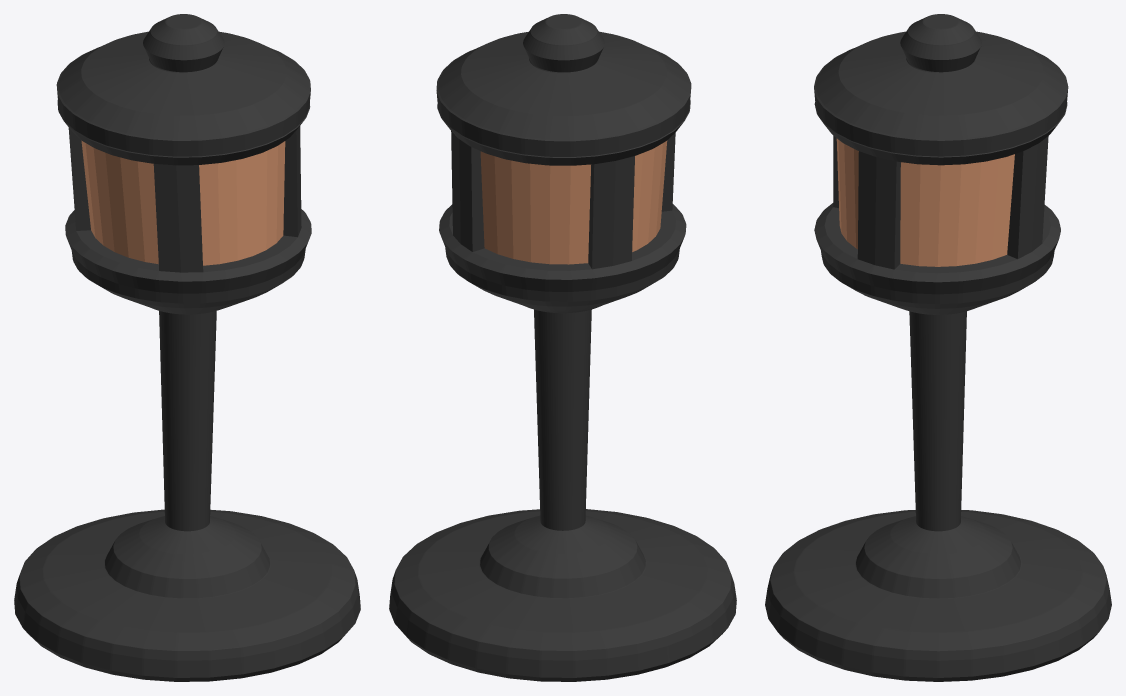
Rendered from lamp_2_garden.fbx.
The picture shows the model from 3 angles, left to right: view 1: azimuth 30°, elevation 25°; view 2: azimuth 150°, elevation 25°; view 3: azimuth 270°, elevation 25°; orthographic projection.
Parts seen in each view (by area): view 1: lamp_2_garden; view 2: lamp_2_garden; view 3: lamp_2_garden.
Part boxes in pixels (x1,y1,x2,y2): lamp_2_garden: (14, 14, 360, 681); lamp_2_garden: (389, 14, 736, 681); lamp_2_garden: (765, 14, 1111, 681).
Size of the model in its own units: 44.86 by 83.94 by 44.86.
